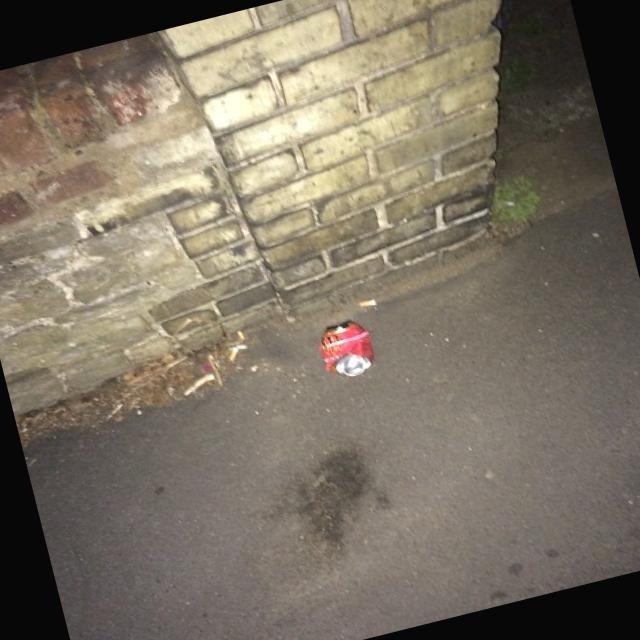Recycle: (314, 313, 382, 383)
